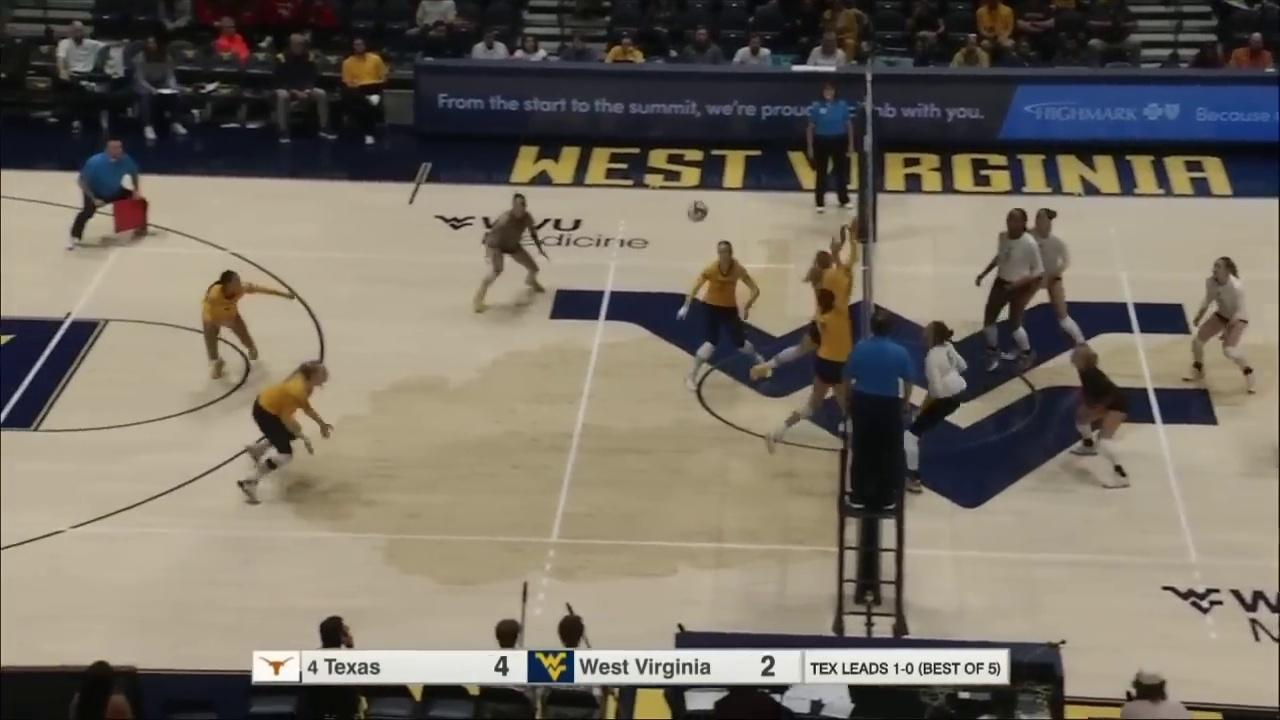player: (767, 285, 855, 458), (748, 242, 842, 390), (241, 358, 335, 505), (677, 235, 765, 391), (1005, 205, 1093, 357), (902, 320, 970, 496), (1177, 255, 1261, 395), (975, 205, 1039, 374), (1064, 341, 1134, 494), (204, 270, 292, 380), (474, 195, 550, 313)
refree: (838, 315, 916, 510), (74, 141, 170, 253), (805, 86, 856, 213)
